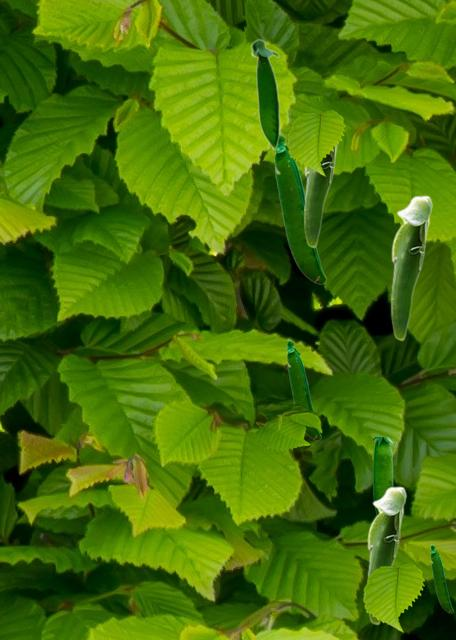pea: (274, 133, 325, 283), (390, 195, 432, 340), (366, 486, 406, 624), (303, 142, 341, 247), (286, 339, 320, 439), (250, 38, 279, 151), (373, 437, 393, 513), (430, 544, 452, 612)
